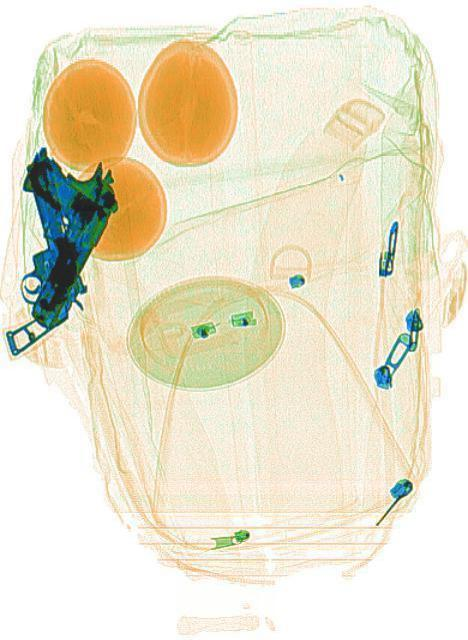Gun: (0, 136, 129, 332), (0, 143, 97, 338)
